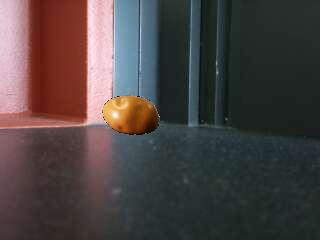Potato: (100, 92, 162, 138)
